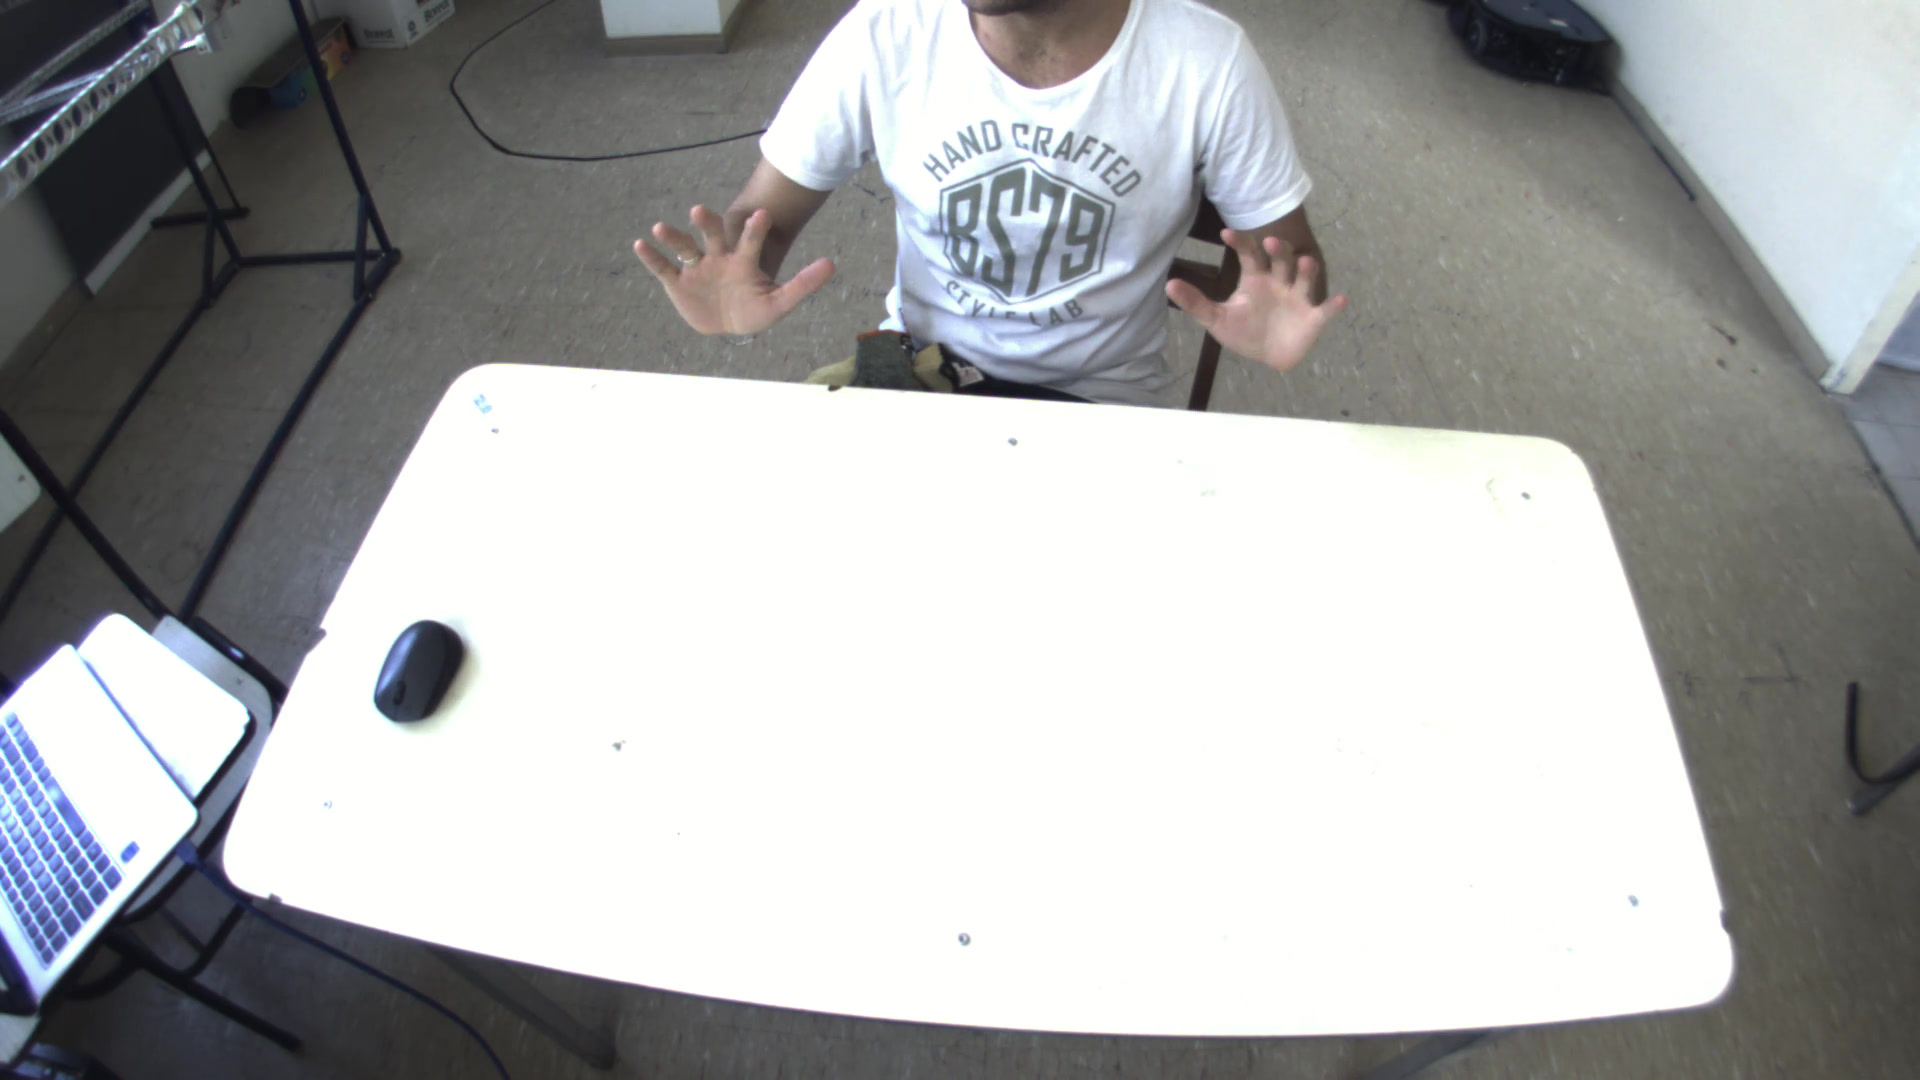hand: (617, 182, 843, 342), (1164, 223, 1364, 375)
